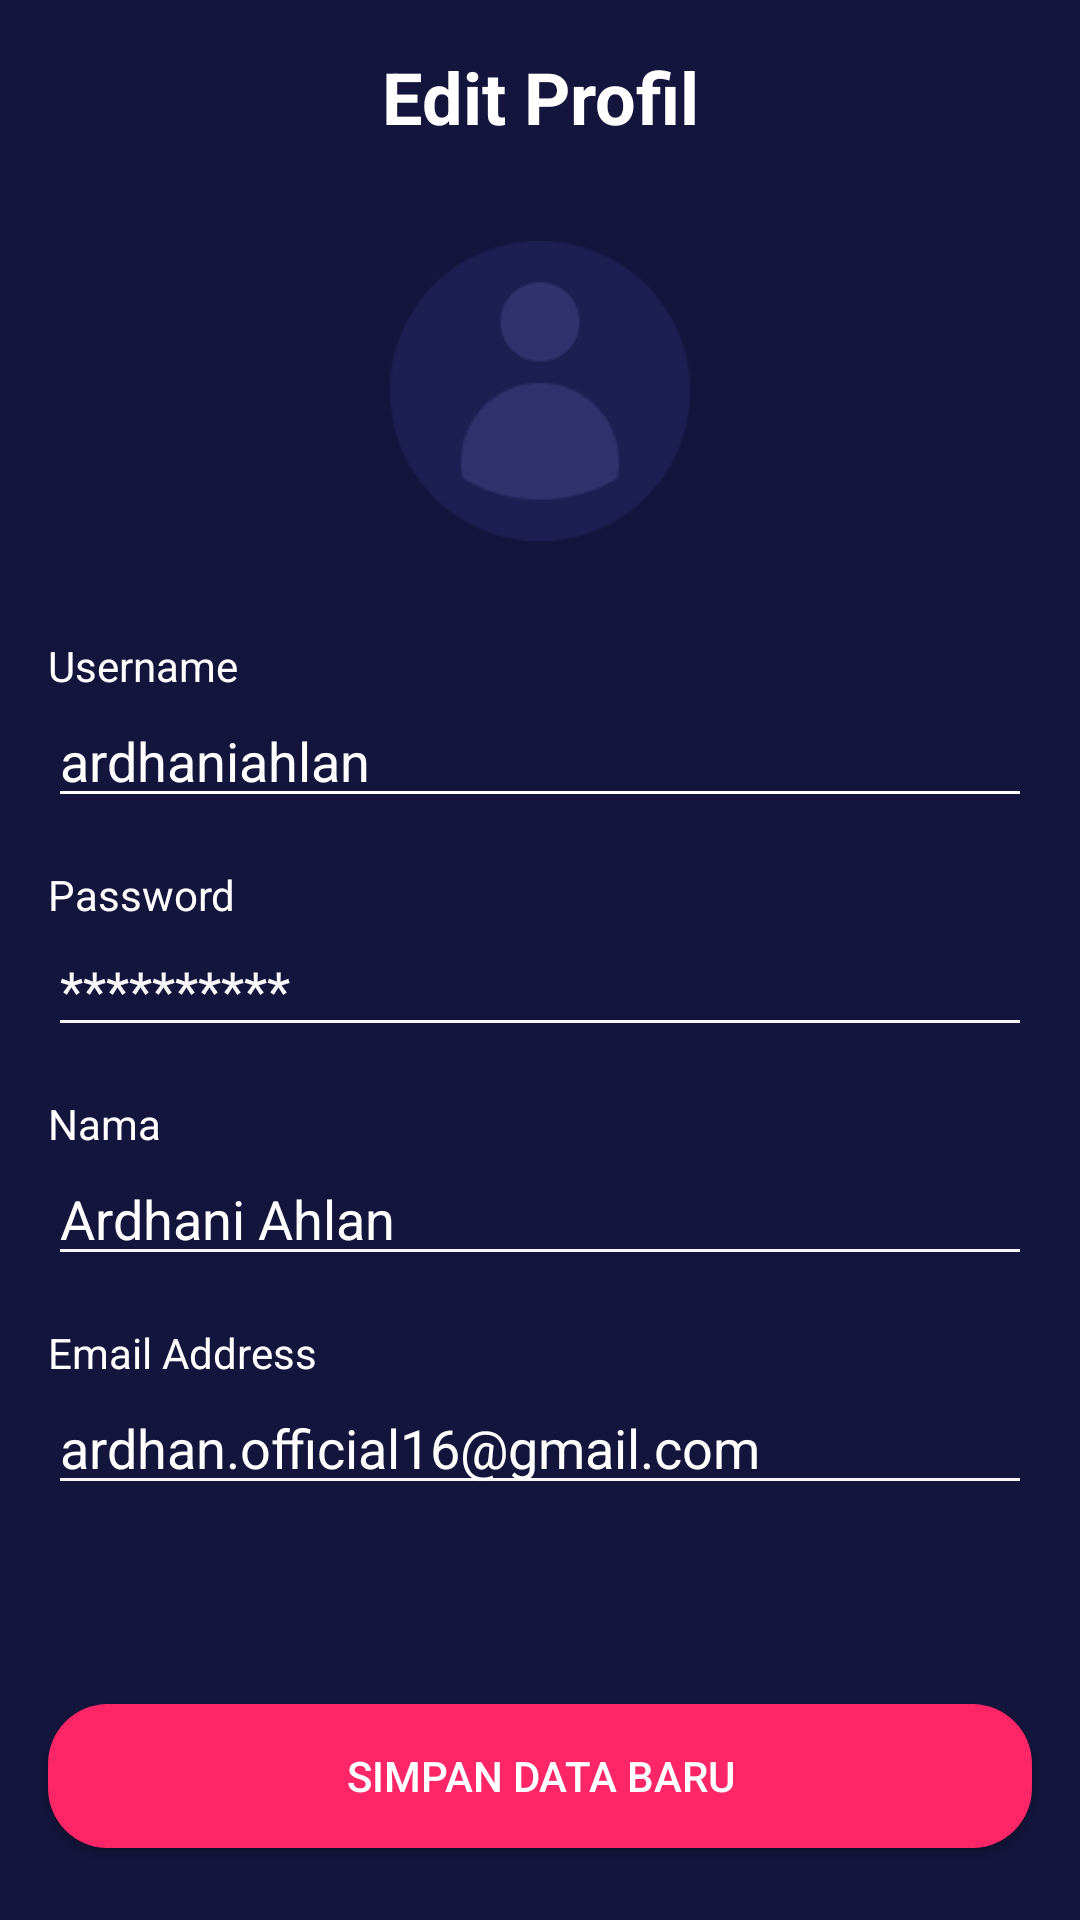

Named icons in this screenshot (1080w x 1920h) and their centers, (x=x, y=y):
user pic: (x=540, y=391)
